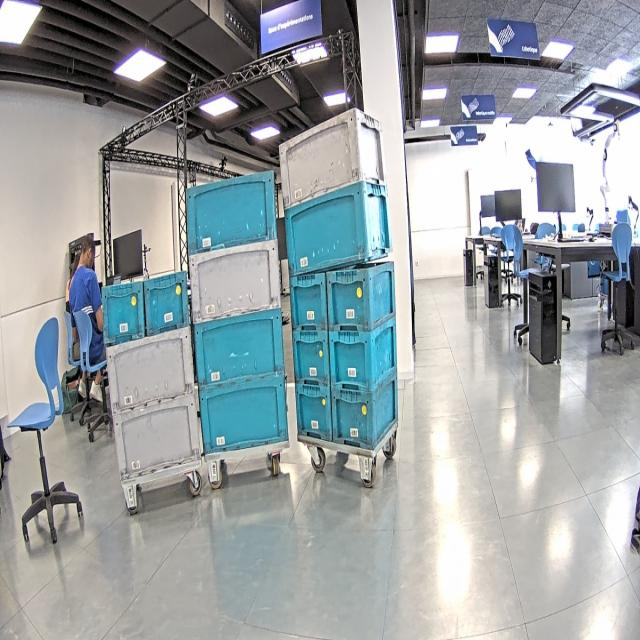Box4G: (280, 109, 387, 212), (109, 391, 205, 482), (188, 239, 284, 328), (105, 326, 198, 414)
BoxB4: (279, 180, 394, 280), (182, 172, 281, 259), (192, 307, 290, 394), (196, 373, 290, 458)
BoxB8: (331, 371, 401, 456), (327, 255, 399, 335), (330, 317, 400, 393), (142, 270, 191, 335), (100, 282, 146, 340), (288, 273, 329, 331), (294, 388, 332, 447), (292, 331, 330, 387)
